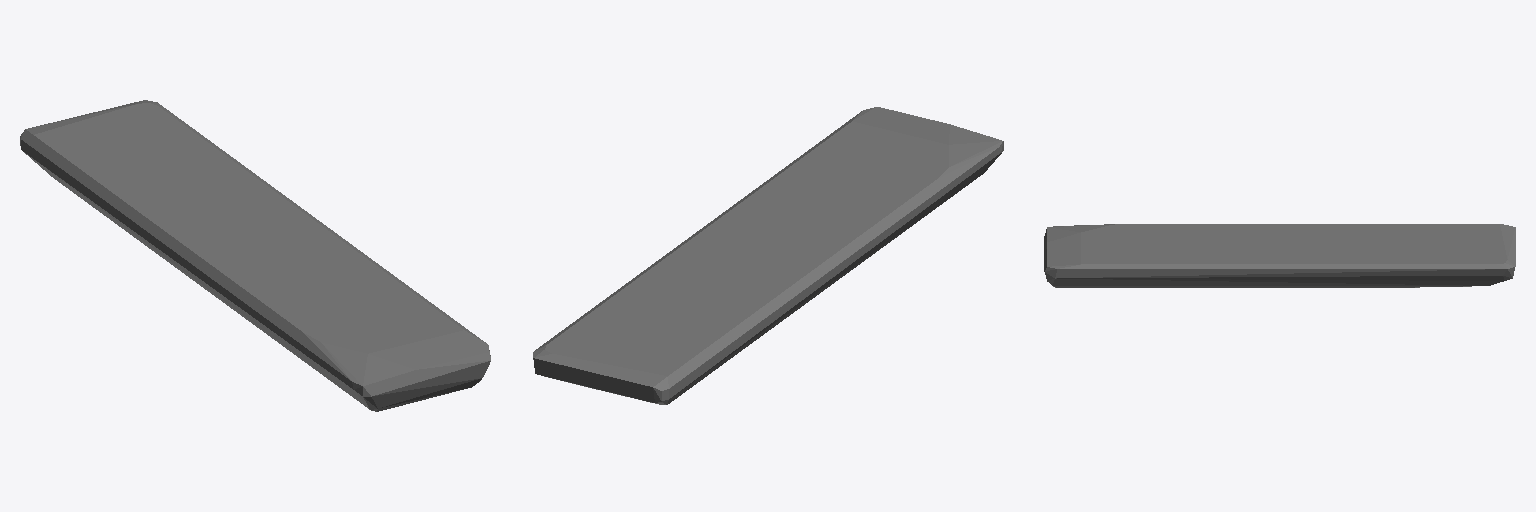
robot.urdf — remote_013:
<?xml version="1.0" ?>
<robot name="remote_013">
  <material name="color">
    <color rgba=".5 .5 .5 1"/>
  </material>

  <link name="base_link">
    <contact>
      <lateral_friction value="1.0"/>
      <rolling_friction value="0.001"/>
      <spinning_friction value="0.001"/>
      <inertia_scaling value="1.0"/>
    </contact>
    <inertial>
      <origin rpy="0 0 0" xyz="1.36116e-05 -0.000945512 9.68163e-05"/>
       <mass value="0.1"/>
       <inertia ixx="1" ixy="0" ixz="0" iyy="1" iyz="0" izz="1"/>
    </inertial>

    <visual>
      <origin rpy="0 0 0" xyz="0 0 0"/>
      <geometry>
        <mesh filename="remote_013_vhacd_0_of_1.obj" scale="1 1 1"/>
      </geometry>
      <material name="color"/>
    </visual>

    <collision>
      <origin rpy="0 0 0" xyz="0 0 0"/>
      <geometry>
        <mesh filename="remote_013_vhacd_0_of_1.obj" scale="1 1 1"/>
      </geometry>
    </collision>

  </link>
</robot>

--- Render facts (derived) ---
Views: 3 orthographic renders of the robot side by side, from view 1: azimuth 30°, elevation 25°; view 2: azimuth 150°, elevation 25°; view 3: azimuth 270°, elevation 25°.
Robot: remote_013 — 1 links, 0 joints (none); root link base_link; default pose: all joints at 0.
Links seen in each view (by area): view 1: base_link; view 2: base_link; view 3: base_link.
Boxes of the visible links, x1=… form: base_link: x1=20, y1=100, x2=490, y2=411; base_link: x1=533, y1=107, x2=1003, y2=404; base_link: x1=1044, y1=224, x2=1515, y2=287.
Size in the robot's own frame: 0.0478 by 0.2097 by 0.014 metres.
1 mesh visuals loaded from 1 distinct referenced files (1 OBJ).